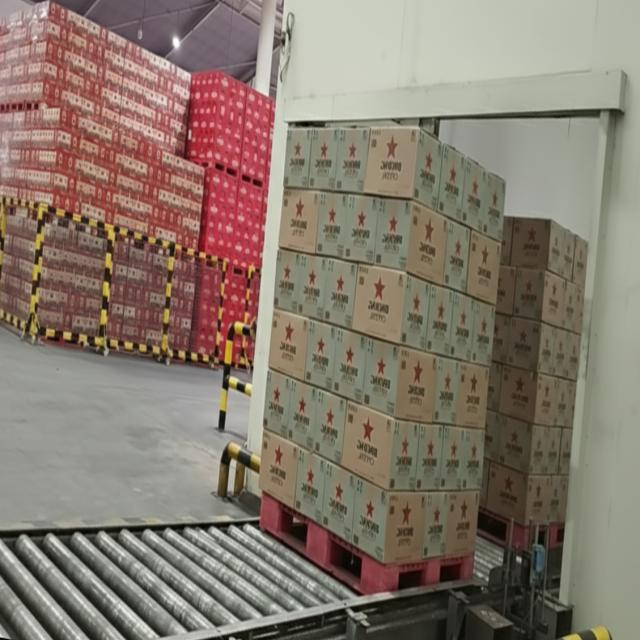pallet: (260, 113, 508, 612), (476, 185, 595, 563)
